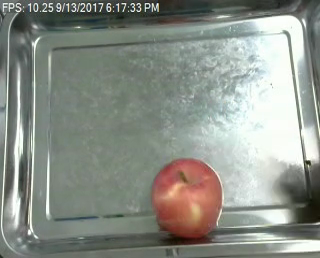Apple: (150, 157, 222, 238)
